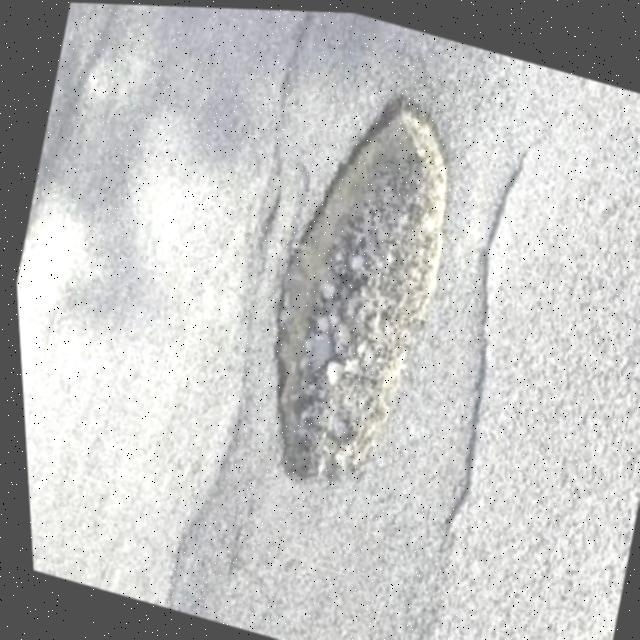Pothole: (210, 55, 486, 510)
